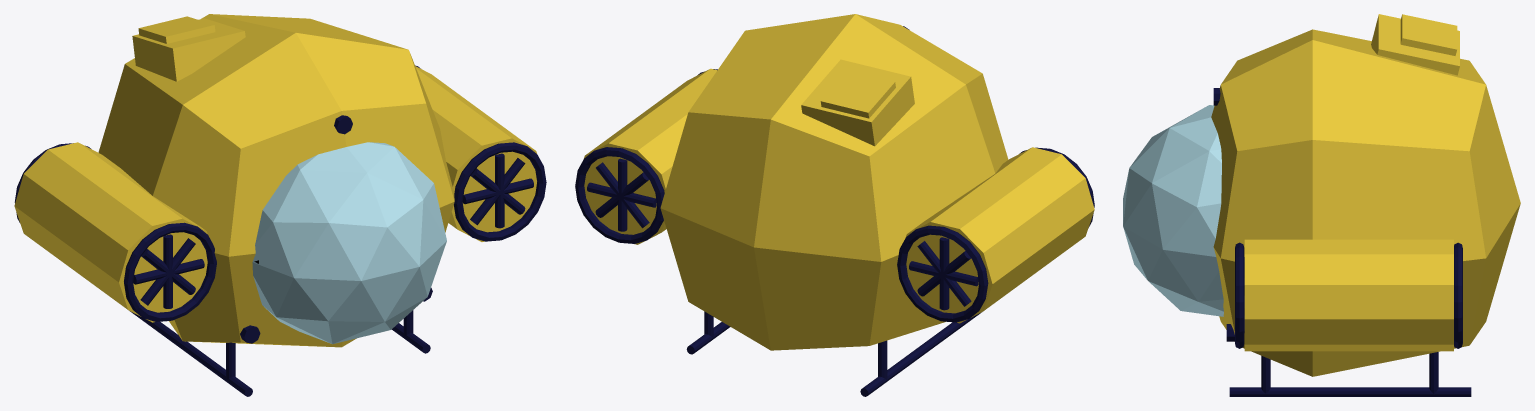
Rendered from sousmarin.glb.
The picture shows the model from 3 angles, left to right: view 1: azimuth 30°, elevation 25°; view 2: azimuth 150°, elevation 25°; view 3: azimuth 270°, elevation 25°; orthographic projection. The views are drawn at different scales.
Visible parts, largest first — view 1: Icosphere.001; view 2: Icosphere.001; view 3: Icosphere.001.
Boxes of the visible parts, x1=… form: Icosphere.001: x1=14, y1=14, x2=546, y2=396; Icosphere.001: x1=575, y1=14, x2=1094, y2=396; Icosphere.001: x1=1123, y1=14, x2=1520, y2=396.
Bounding box in the file's own units: 9.05 × 6.33 × 7.29.
